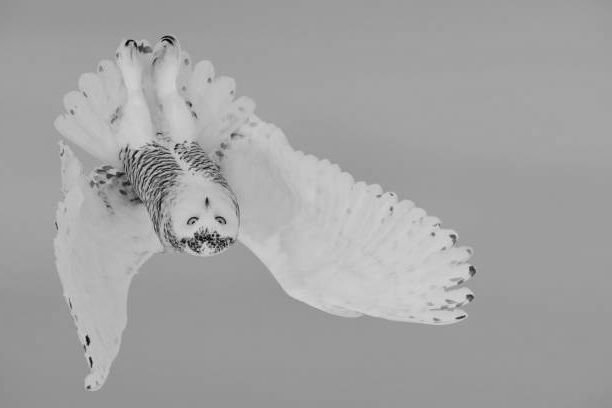Bird: (50, 27, 476, 393)
